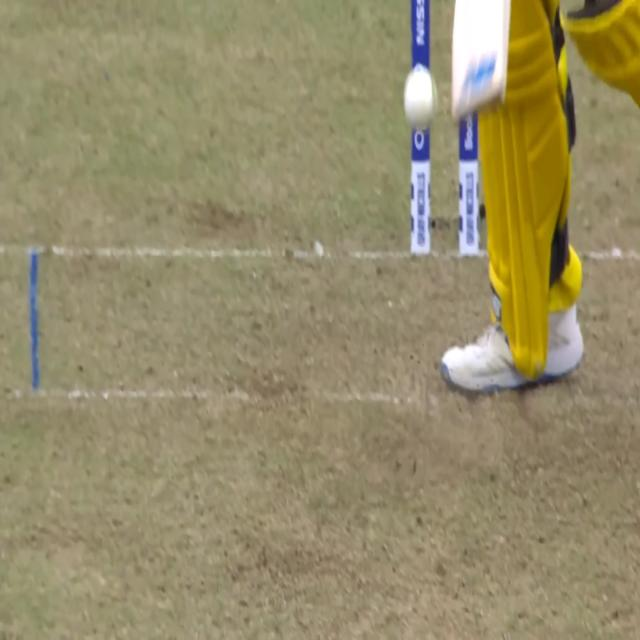ball: (401, 63, 439, 138)
